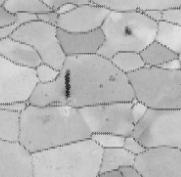good_void: (63, 68, 74, 99), (121, 25, 134, 38), (109, 73, 117, 82), (99, 82, 104, 88), (131, 121, 136, 126), (44, 93, 49, 98), (127, 80, 132, 85), (105, 118, 110, 122), (75, 55, 79, 60)
